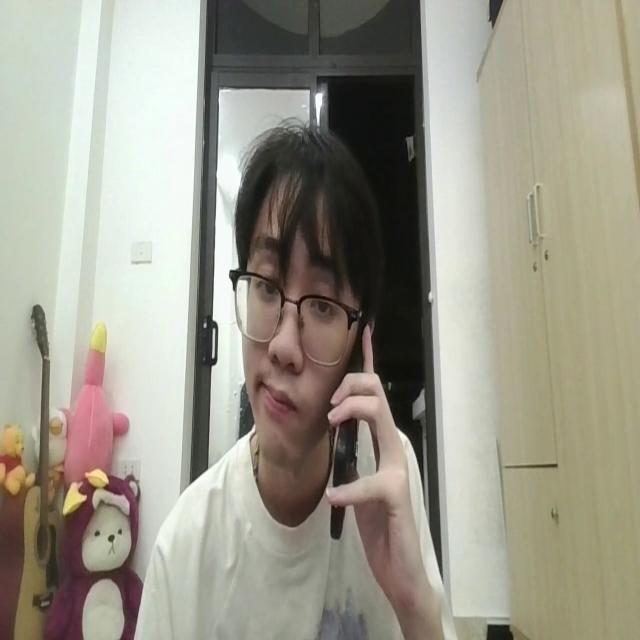phone: (332, 296, 376, 546)
student: (146, 120, 452, 640)
